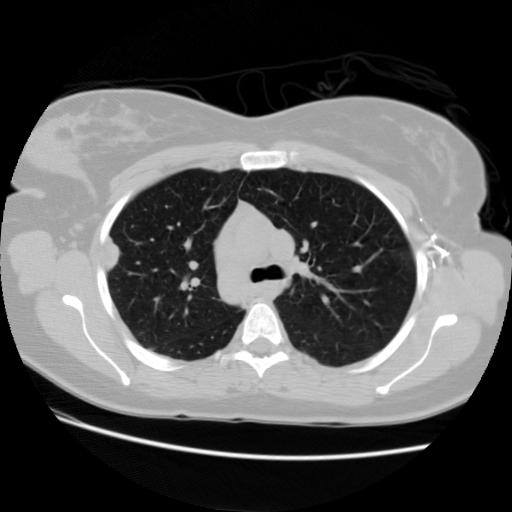nodule: (99, 240, 128, 269)
